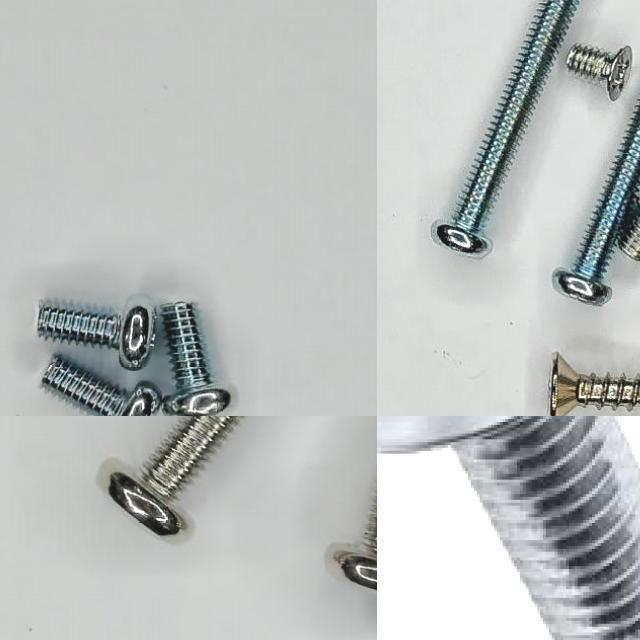Screw: (377, 416, 640, 640), (432, 0, 580, 257), (553, 103, 640, 305), (109, 416, 240, 536), (38, 298, 157, 371), (162, 303, 232, 416), (43, 357, 162, 416), (549, 353, 640, 416), (566, 45, 632, 101), (619, 217, 640, 261)
